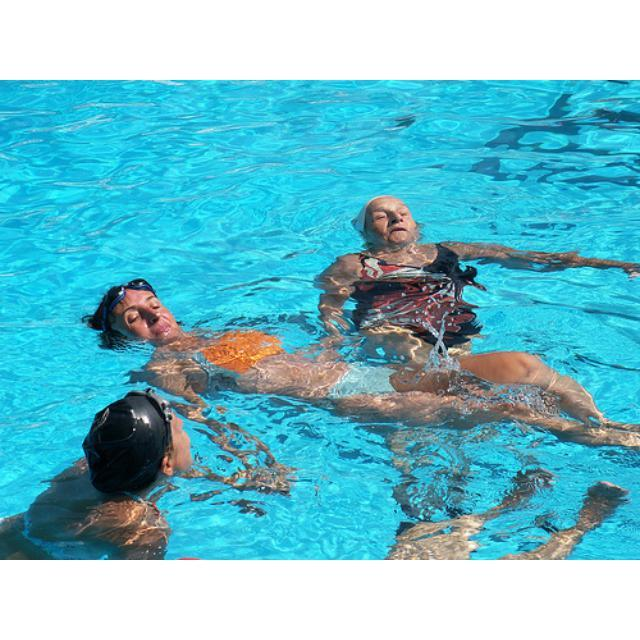human: (97, 281, 639, 452), (1, 389, 205, 559), (317, 193, 492, 355)
